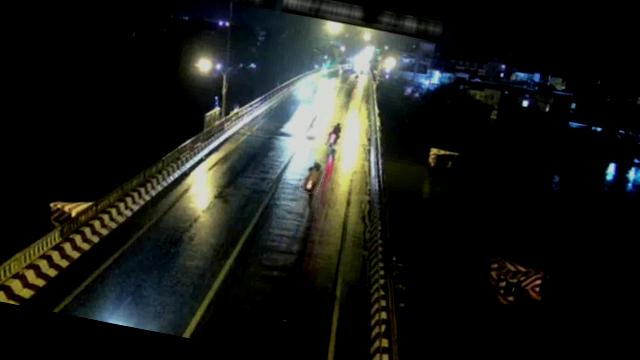Bike: (300, 159, 326, 194), (326, 118, 346, 150)
